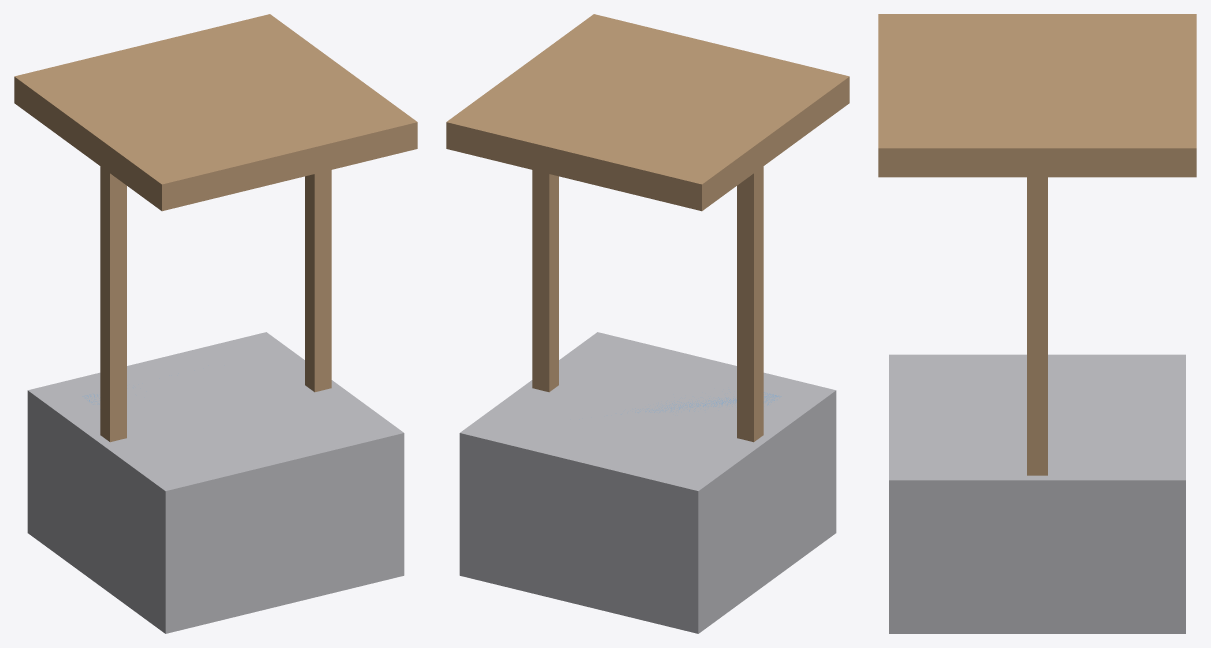
File: Prop_DS_Water_Well_V3.glb
3 views of the same model, side by side, from view 1: azimuth 30°, elevation 25°; view 2: azimuth 150°, elevation 25°; view 3: azimuth 270°, elevation 25° (orthographic). The views are drawn at different scales.
Visible parts, largest first — view 1: Prop_DS_Water_Well_V3; view 2: Prop_DS_Water_Well_V3; view 3: Prop_DS_Water_Well_V3.
Part boxes in pixels (<box>): Prop_DS_Water_Well_V3: <box>14,14,417,633</box>; Prop_DS_Water_Well_V3: <box>446,14,849,633</box>; Prop_DS_Water_Well_V3: <box>878,14,1196,633</box>.
Bounding box in the file's own units: 1.5 × 2.55 × 1.5.
